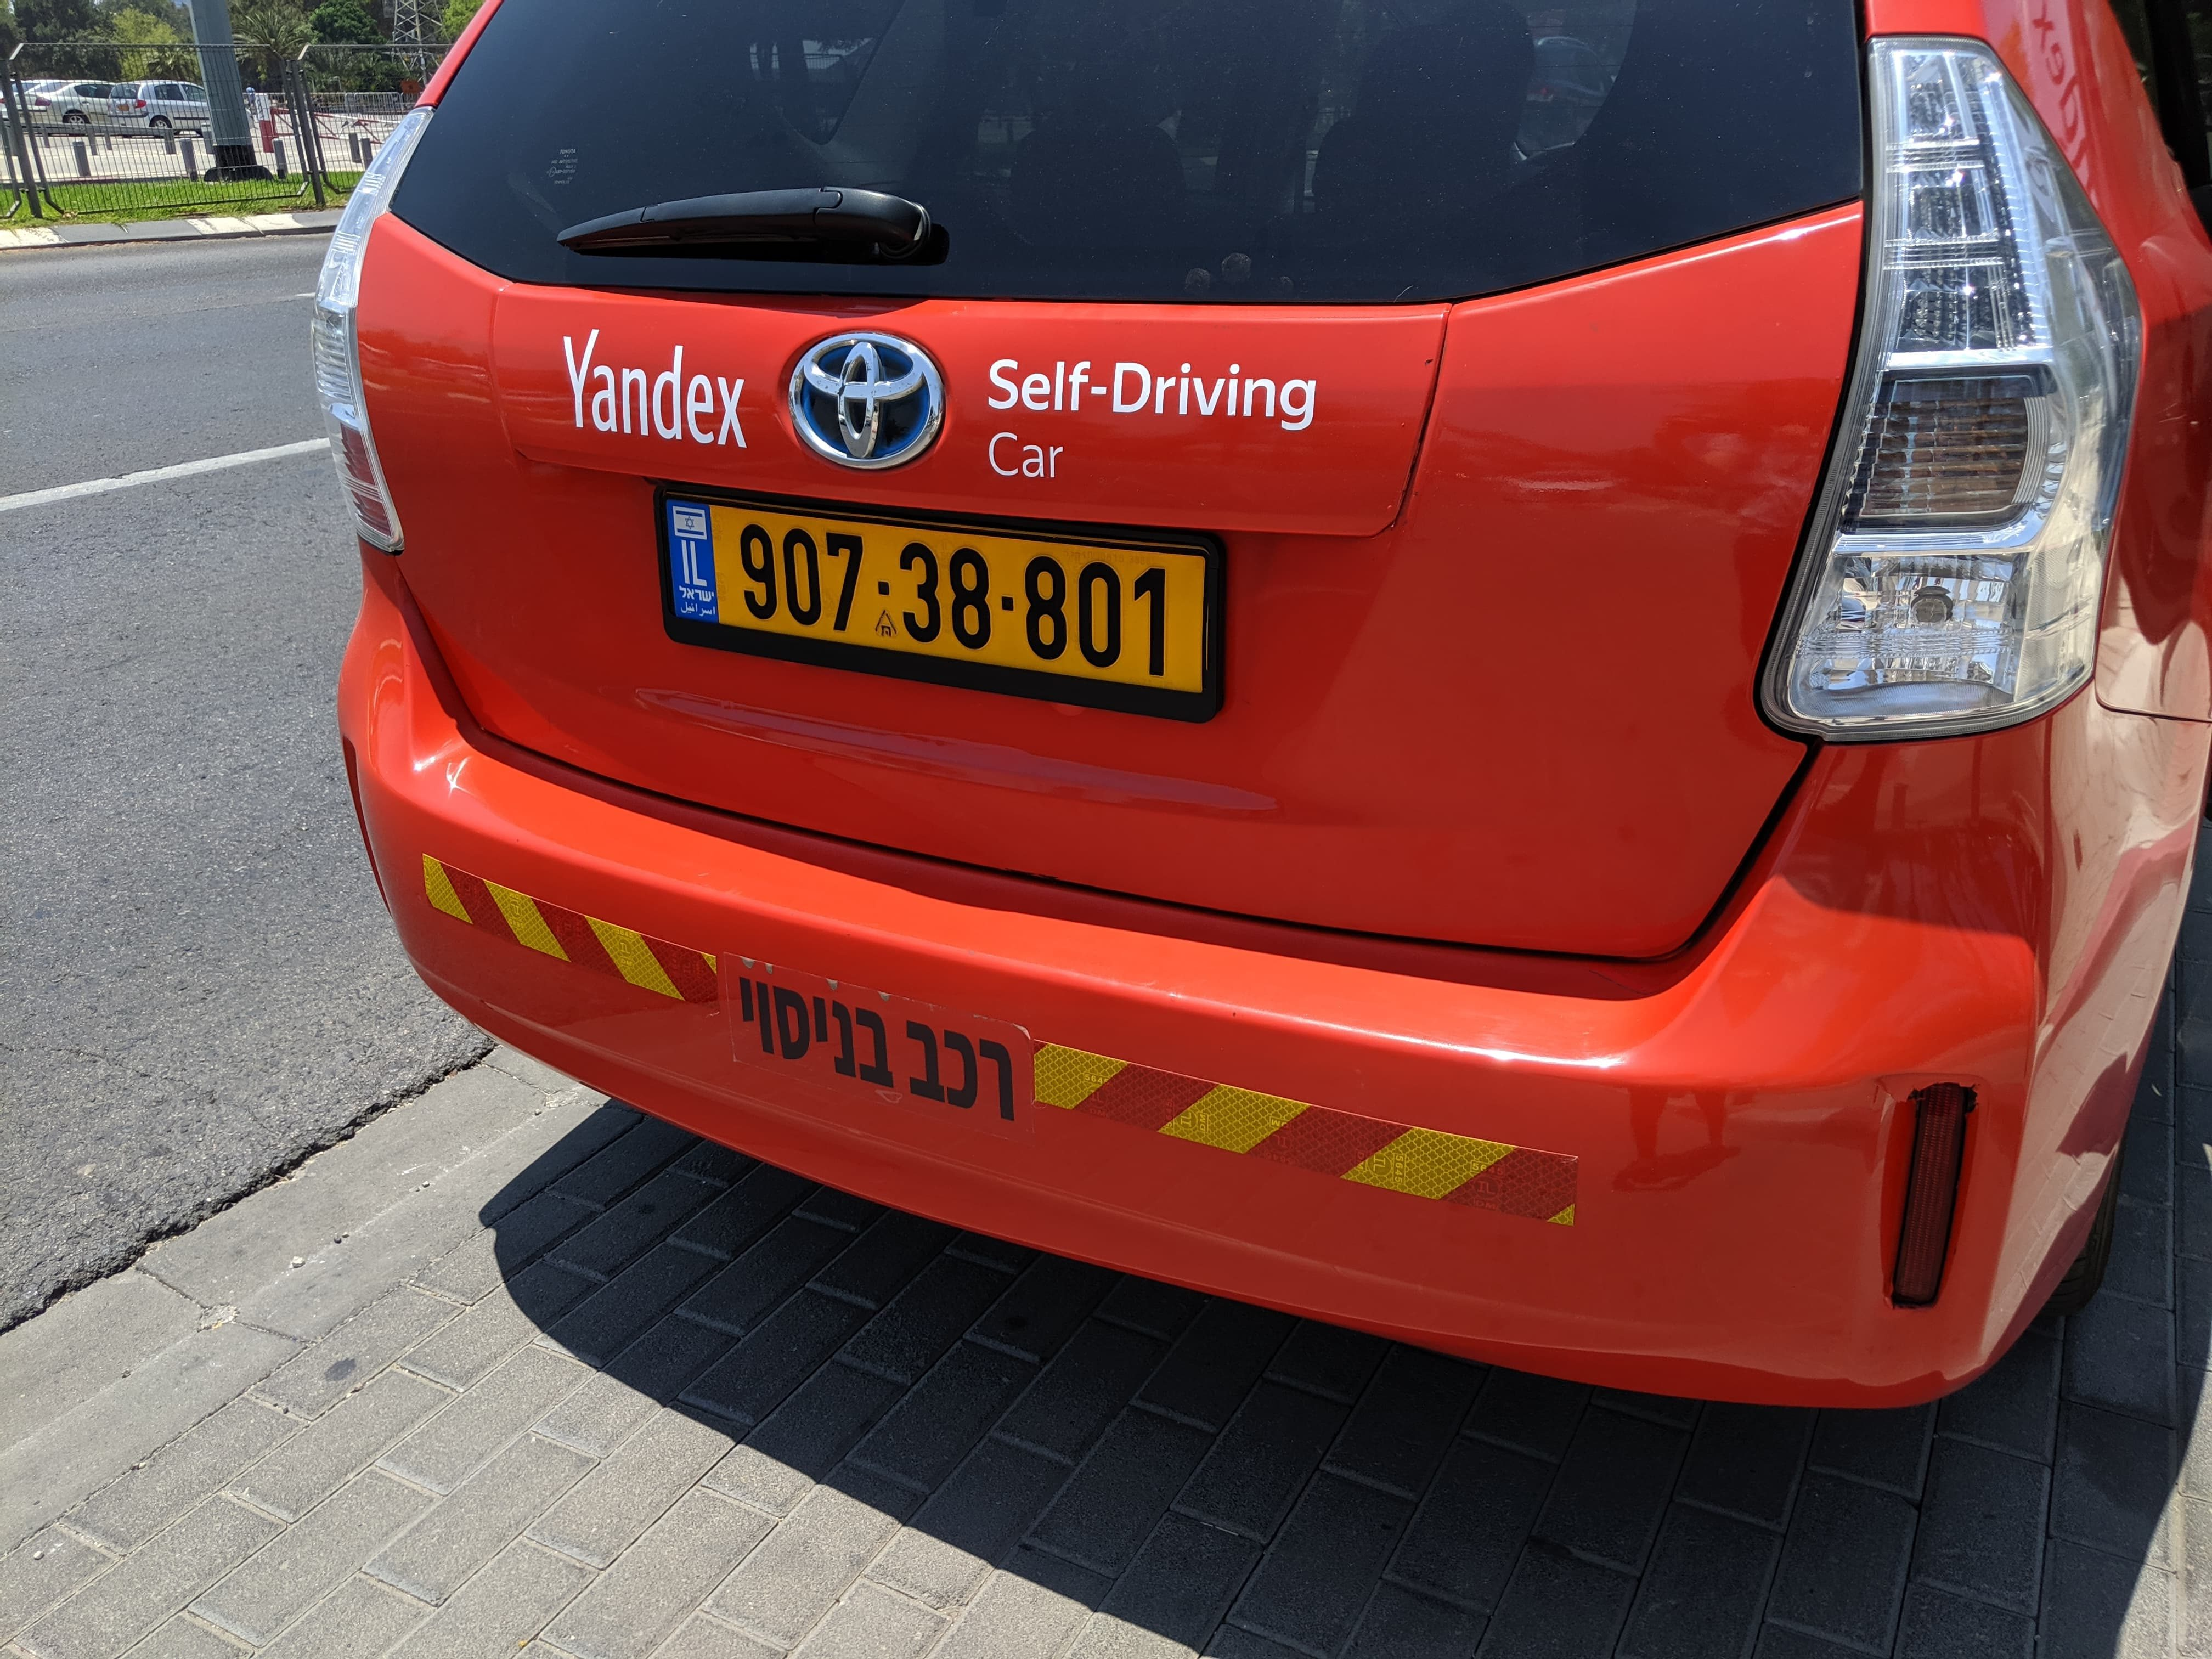licence: (643, 475, 1228, 719)
